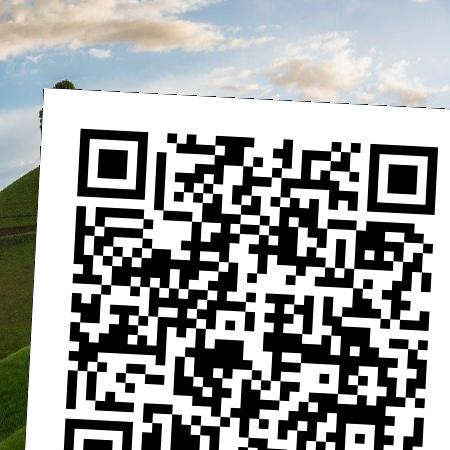qr_code: (25, 57, 449, 450)
